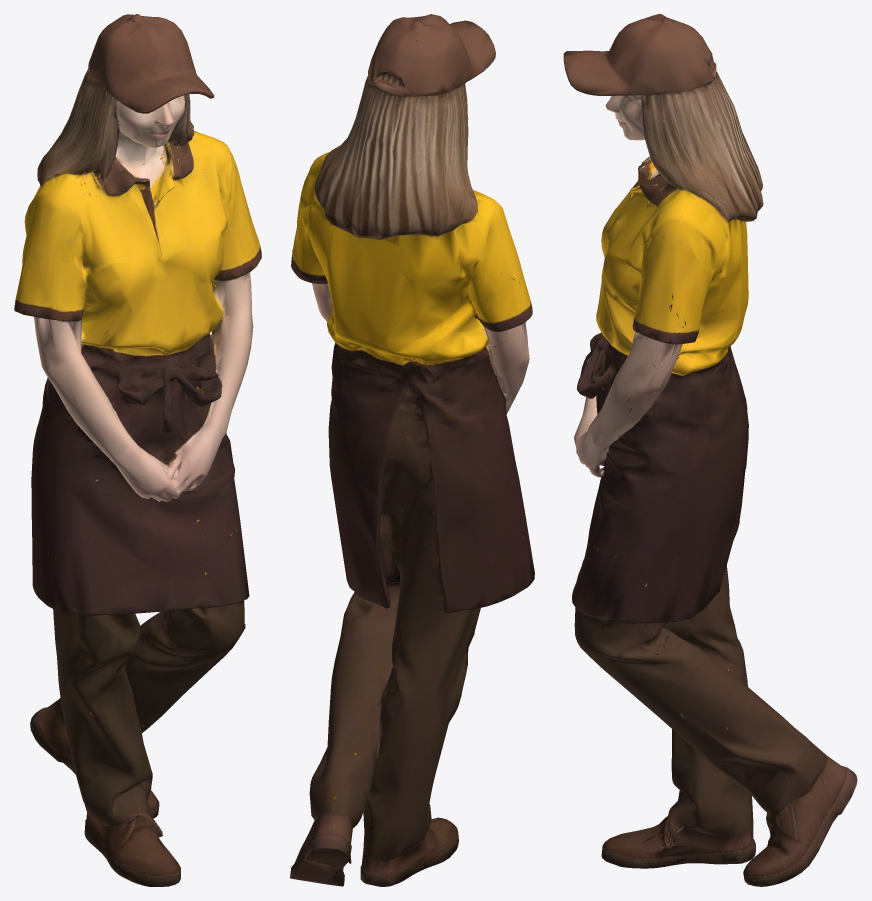
The model's file is cafestaff.glb.
The picture shows the model from 3 angles, left to right: view 1: azimuth 30°, elevation 25°; view 2: azimuth 150°, elevation 25°; view 3: azimuth 270°, elevation 25°; orthographic projection.
Visible parts, largest first — view 1: Object_5, Object_6; view 2: Object_6, Object_5; view 3: Object_6, Object_5, Object_7.
Boxes of the visible parts, x1,y1,x2,y2 form: Object_5: (14,14,261,886); Object_6: (14,16,259,868); Object_6: (290,20,532,886); Object_5: (292,14,534,861); Object_6: (624,19,857,886); Object_5: (563,14,712,868); Object_7: (611,19,673,852).
Size of the model in its own units: 0.565 by 1.9 by 0.603.
1 material, 1 textured.
